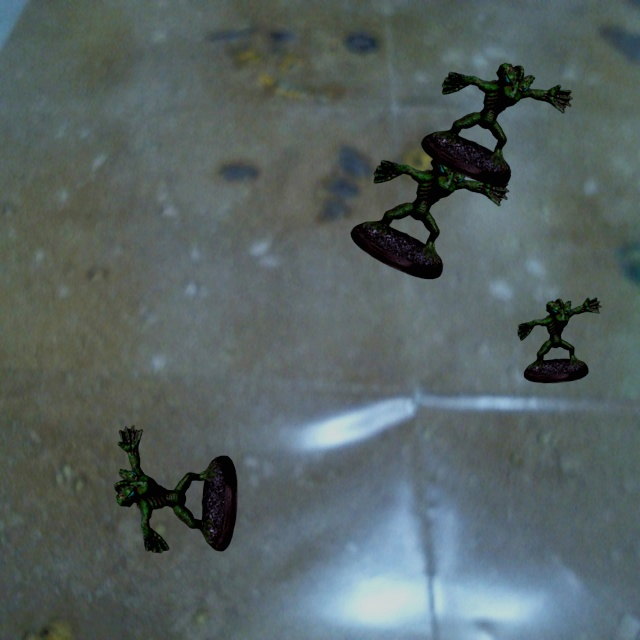pieza_juego: (350, 152, 508, 278), (421, 63, 572, 185), (114, 425, 237, 552), (517, 297, 601, 382)
